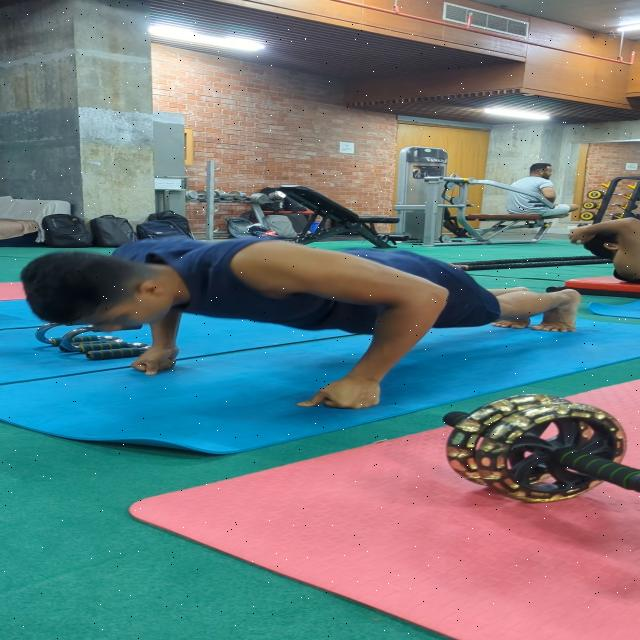Normal_PushUps: (3, 238, 607, 415)
